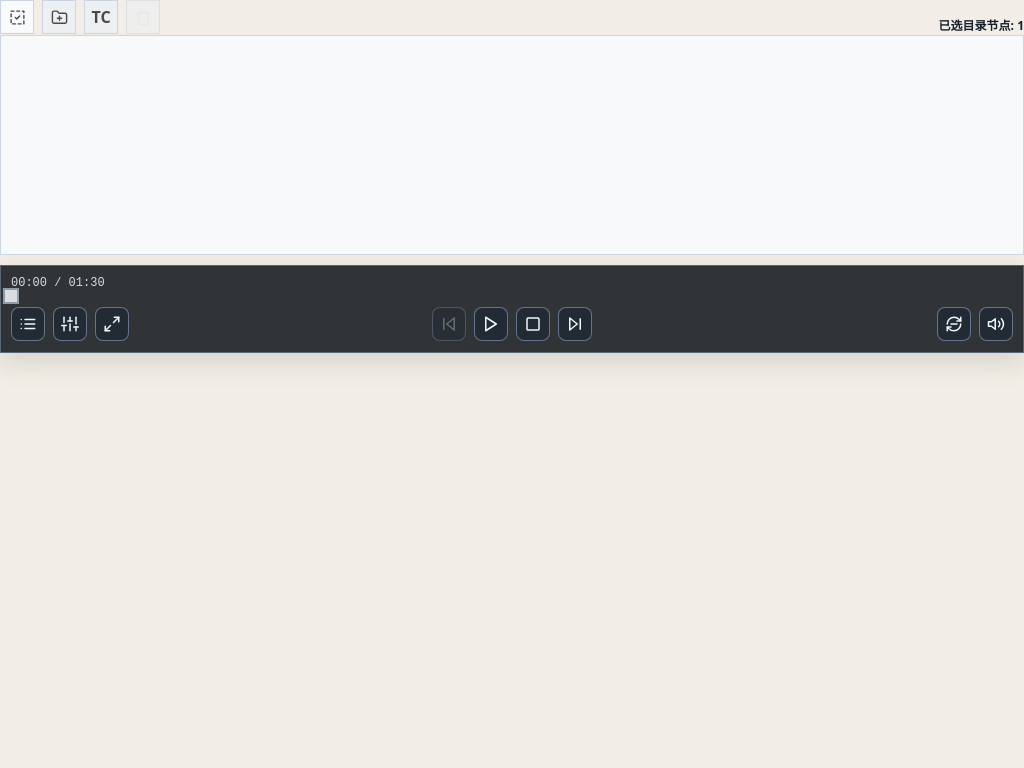
Test case: MusicMainSection › 转码能力显示 ffmpeg 不可用时应禁用开始按钮
Click the button "TC" at (101, 17), box [84,0,118,34]
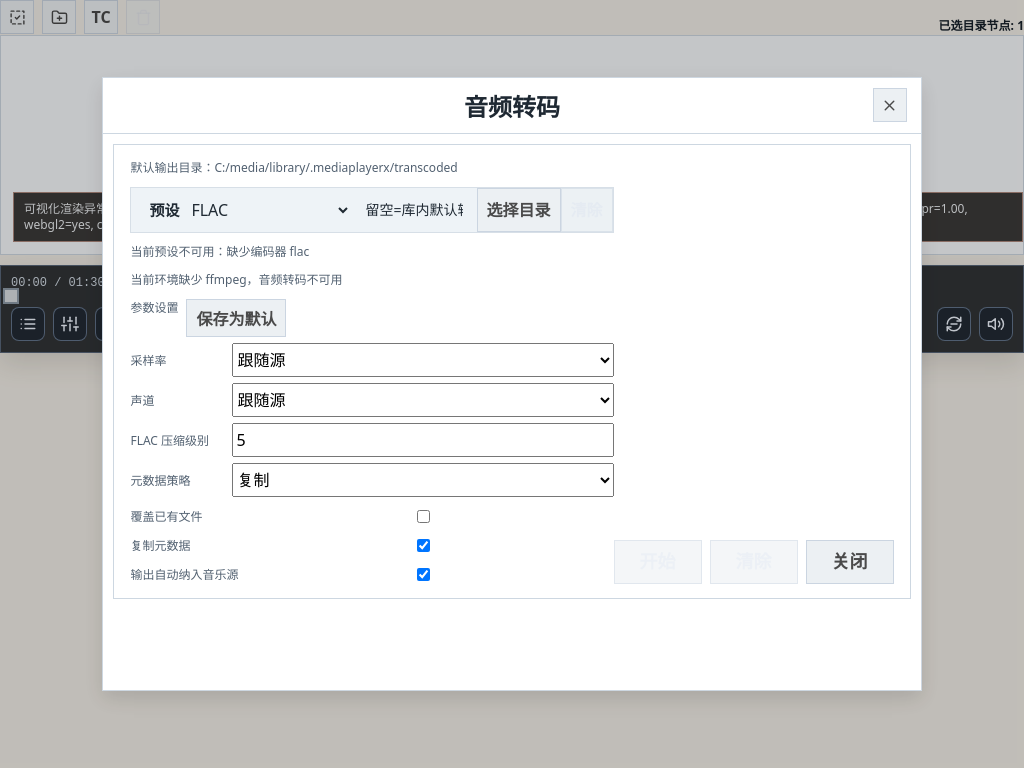
Expected: the button "开始" is disabled, [614,540,702,584]
Now the text "当前环境缺少 ffmpeg，音频转码不可用" is shown, box [130,271,342,288]
